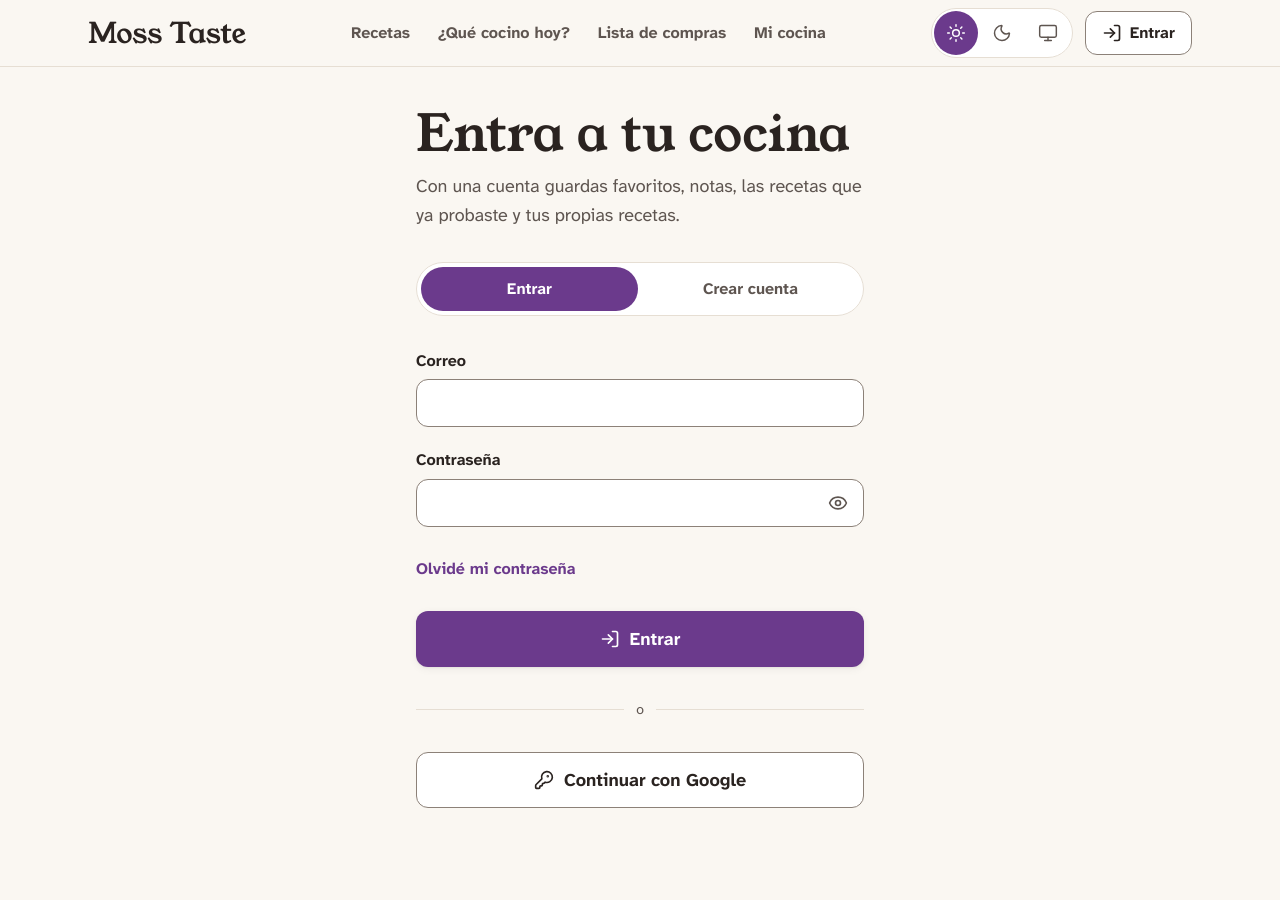
Test: formularios › acceso: crear cuenta exige contraseña de 8 caracteres
The width and height of the screenshot is (1280, 900).
Check: the heading "Entra a tu cocina" is shown, box 416,107 -> 864,160
Click the 4th radio button labelled "Crear cuenta": [750, 288] box 703,278 -> 798,299
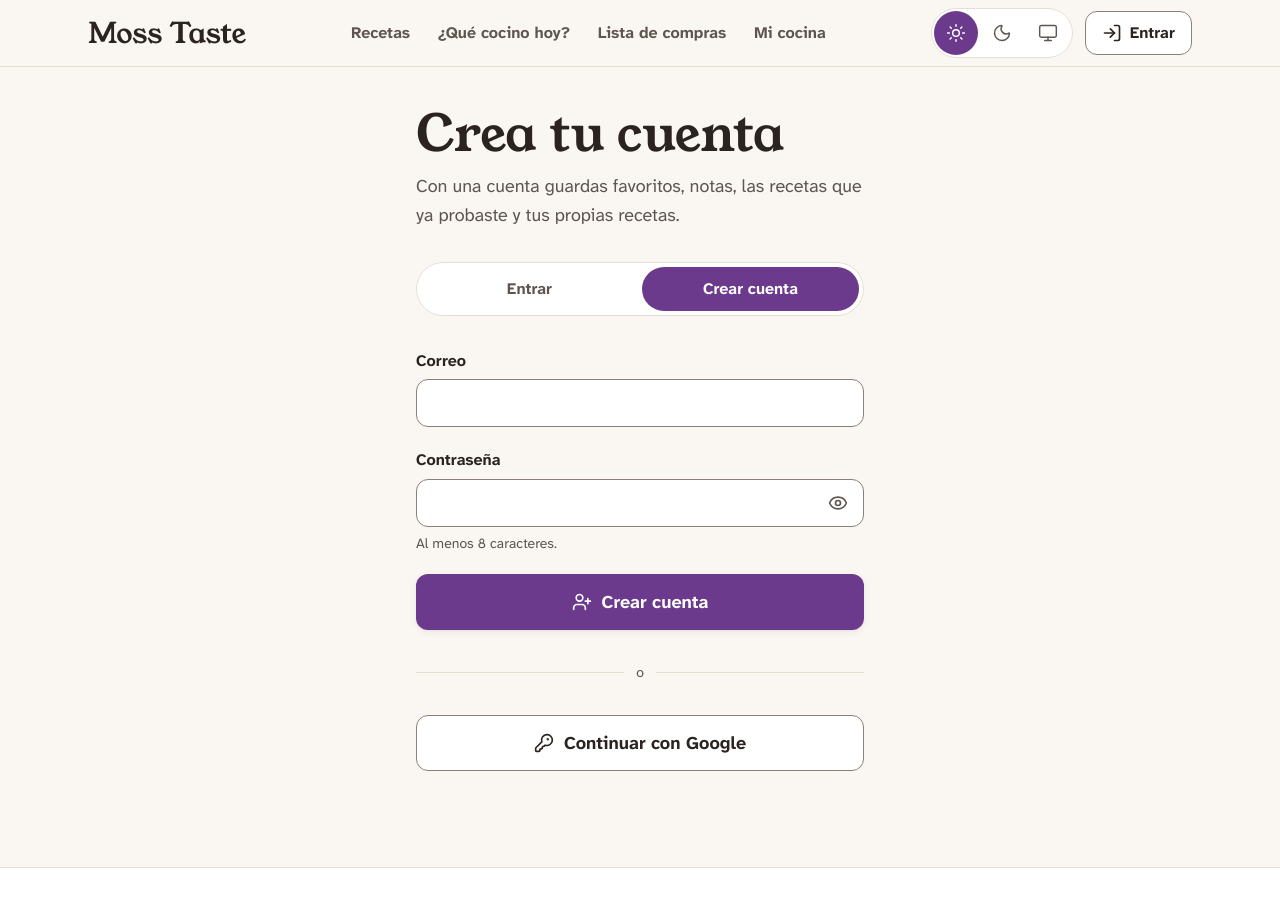
In the field labelled "Correo": [640, 403] box 416,379 -> 864,427, type "ana@correo.co"
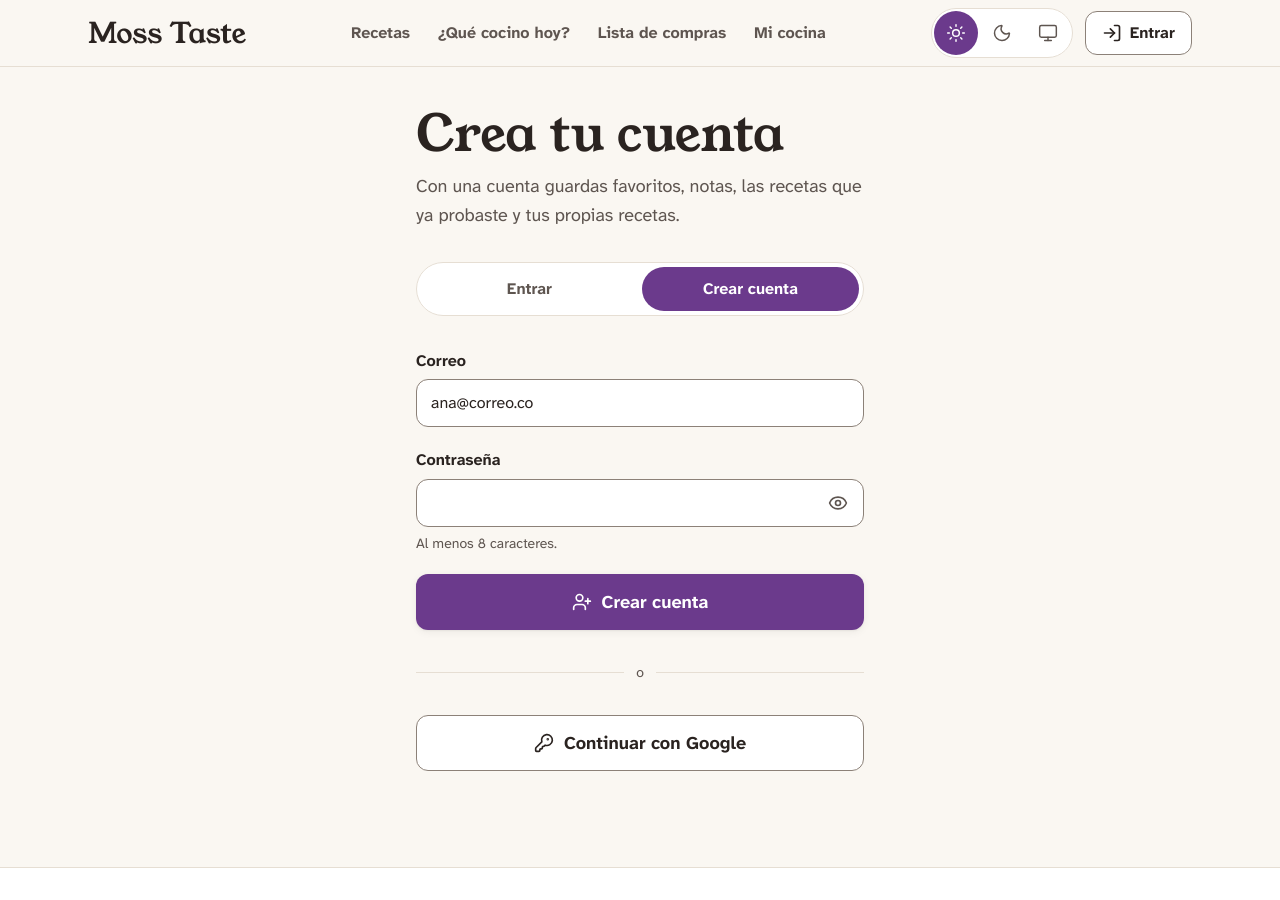
In the password field labelled "Contraseña": [640, 503] box 416,479 -> 864,527, type "corta"
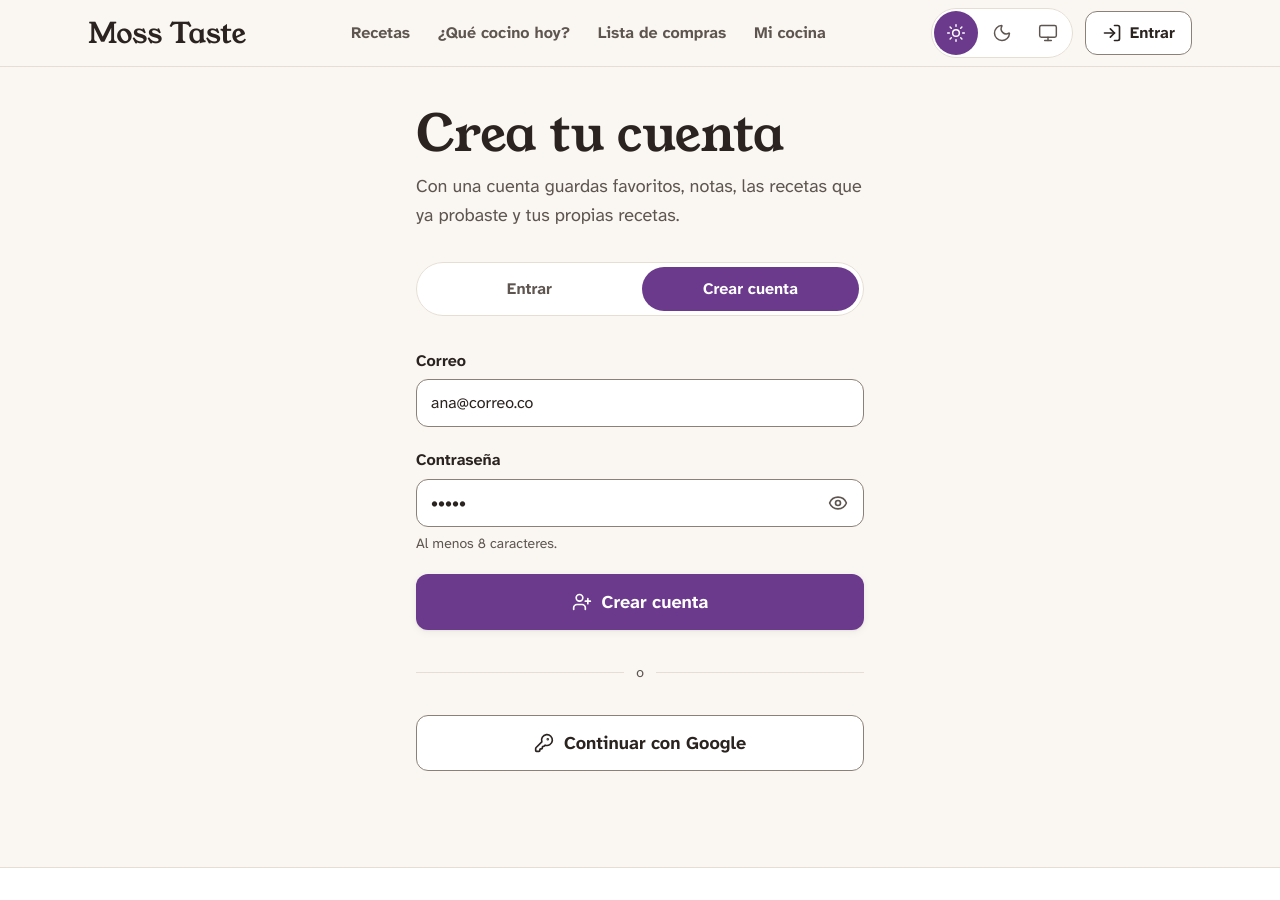
Click the button "Crear cuenta": [640, 602] box 416,574 -> 864,630
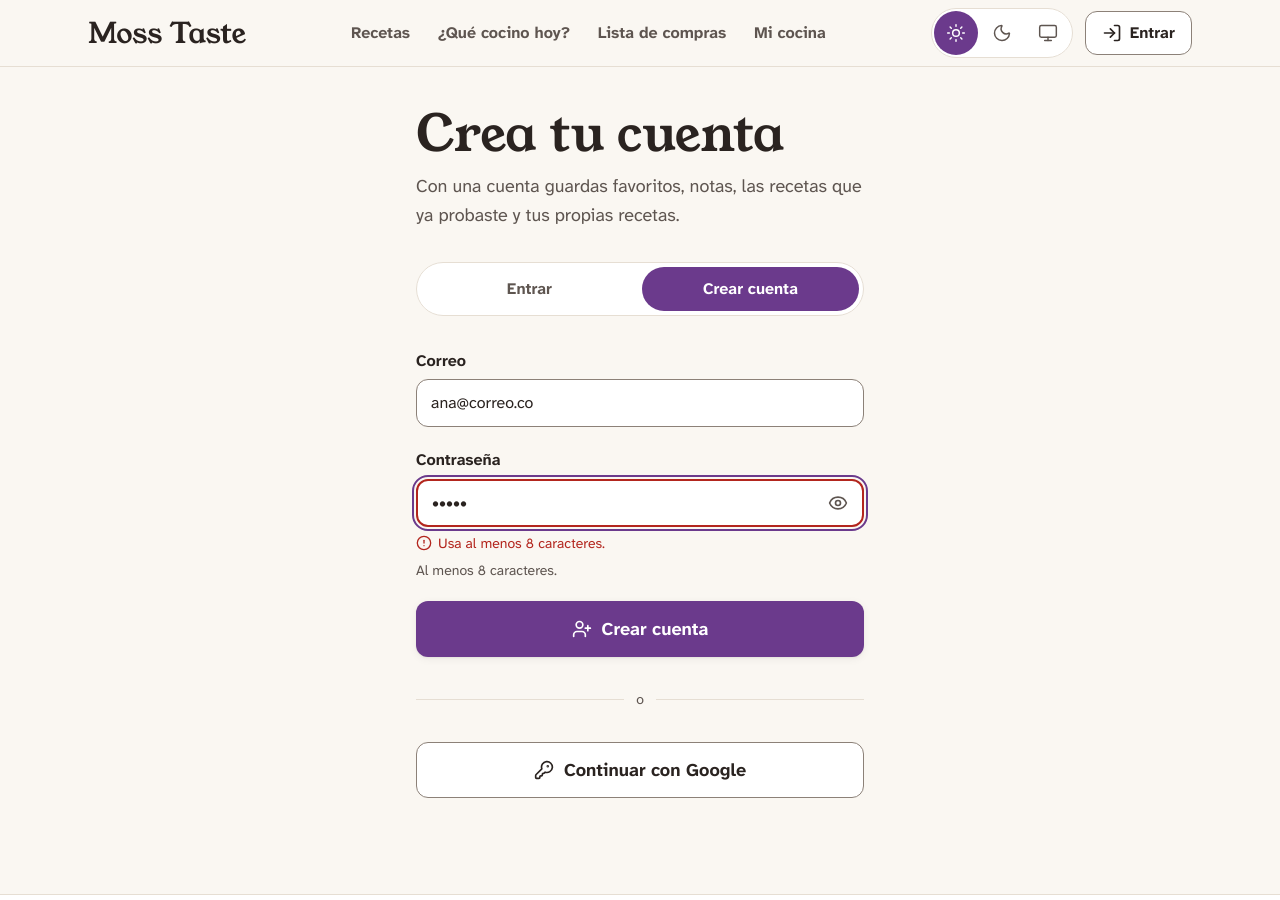
Check: the text "Usa al menos 8 caracteres." is shown, box 416,534 -> 605,552
